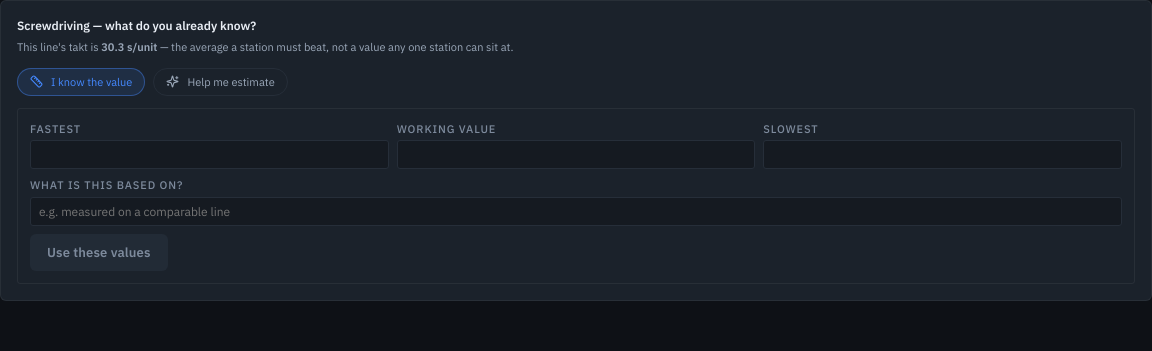
Scenario: both paths are offered › labels the repeat count so it cannot be read backwards
Click the tab with test id "estimate-mode-assist".
click(221, 82)  # box [153, 68, 288, 96]
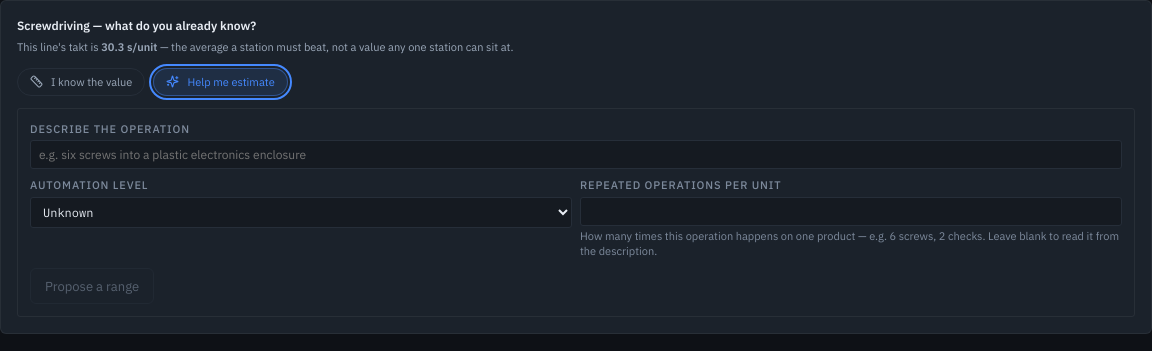
Check: the element with test id "estimate-assist-form" shows "Repeated operations per unit", box [580, 178, 781, 192]
Check: the element with test id "estimate-assist-form" shows "How many times this operation happens on one product", box [580, 228, 1119, 258]
